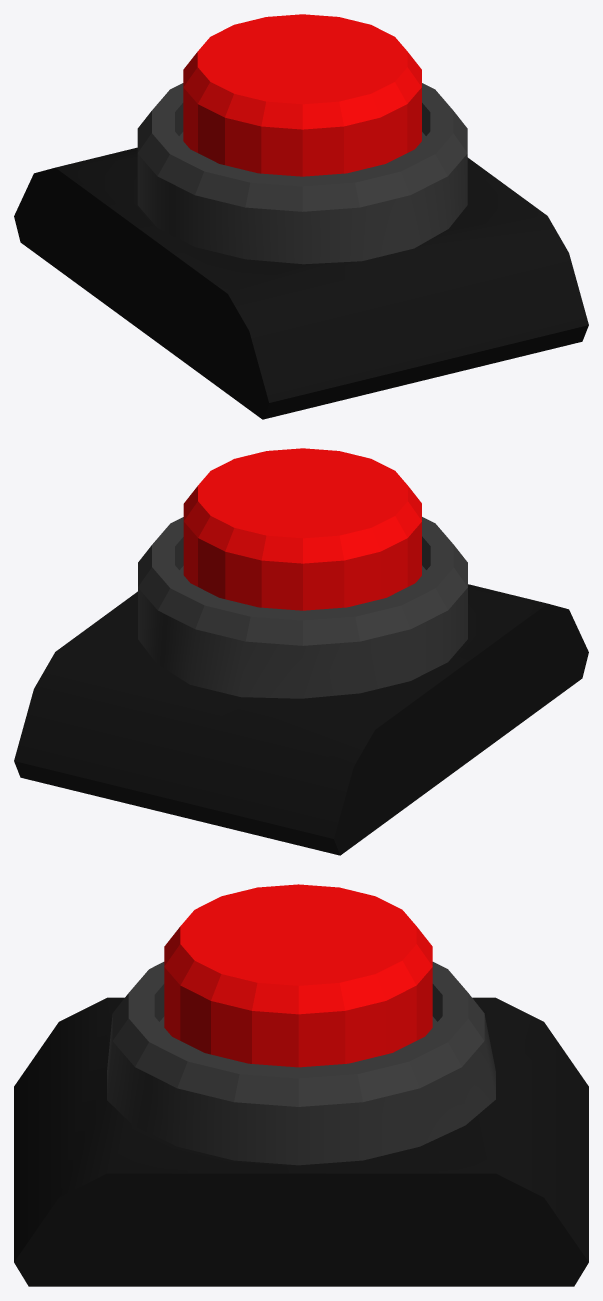
File: button.FBX
The picture shows the model from 3 angles, top to bottom: view 1: azimuth 30°, elevation 25°; view 2: azimuth 150°, elevation 25°; view 3: azimuth 270°, elevation 25°; orthographic projection. The views are drawn at different scales.
Parts seen in each view (by area): view 1: Box002; view 2: Box002; view 3: Box002.
Boxes of the visible parts, left/top/right/bottom form: Box002: left=14, top=14, right=588, bottom=419; Box002: left=14, top=448, right=588, bottom=855; Box002: left=14, top=884, right=588, bottom=1286.
Size of the model in its own units: 46.19 by 32.27 by 63.85.
